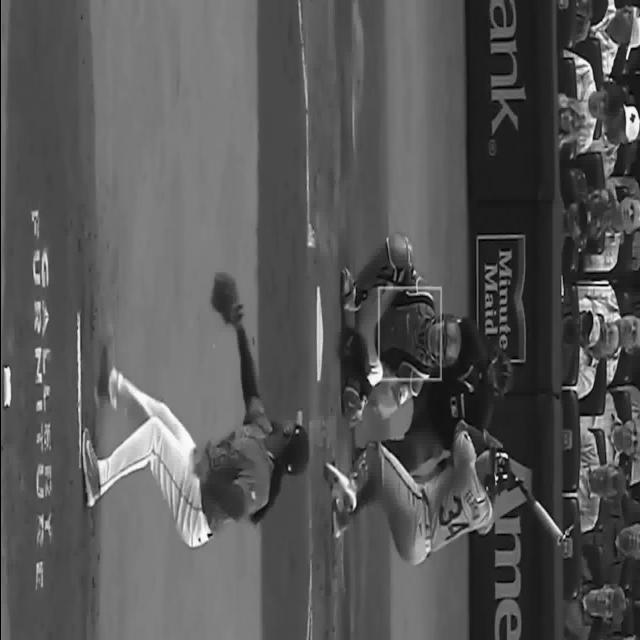baseball_glove: (211, 273, 242, 329), (339, 327, 368, 380)
bat: (512, 476, 566, 547)
shoe: (322, 462, 356, 513), (81, 427, 100, 507), (96, 327, 114, 405), (340, 267, 366, 313)
